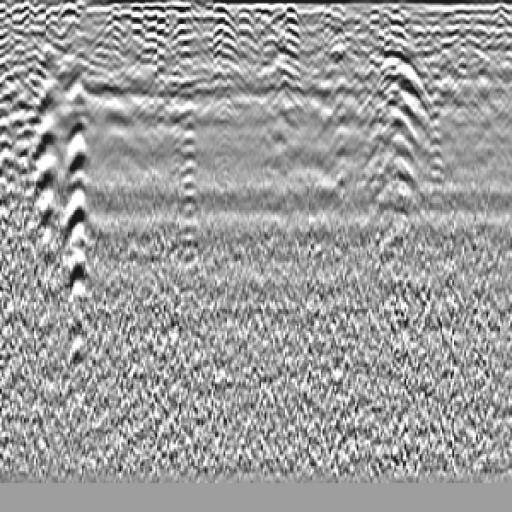metalic: (361, 42, 431, 228)
